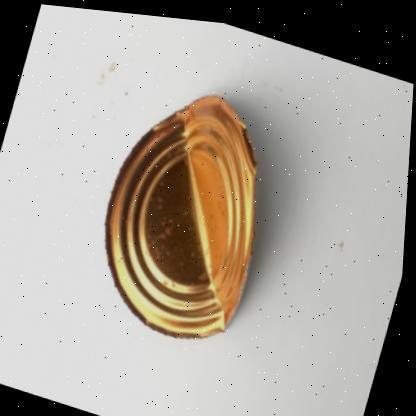Metal: (107, 89, 257, 332)
